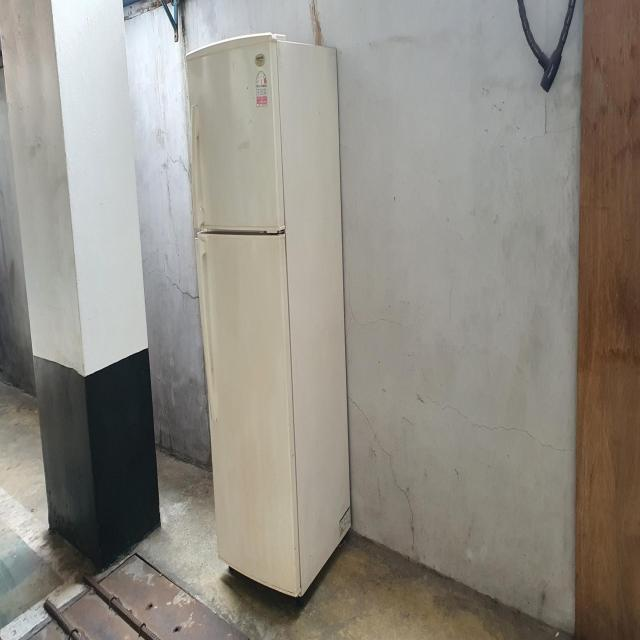refrigerator: (183, 24, 354, 602)
